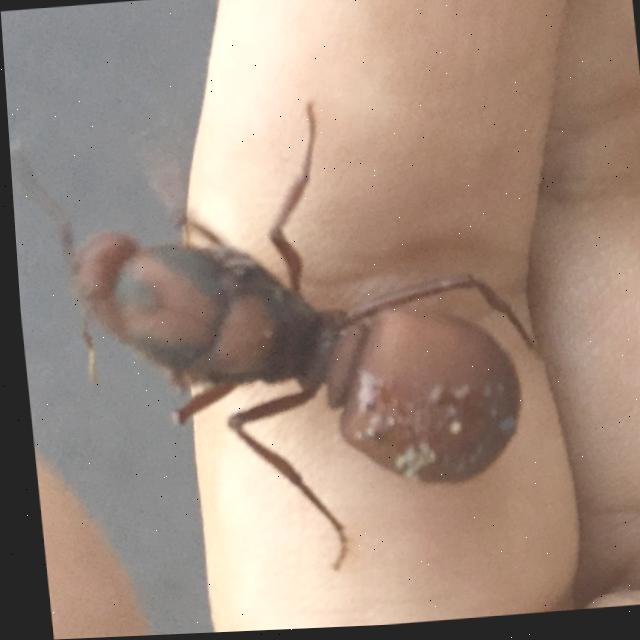Alive-Female-Dealate: (6, 88, 549, 595)
